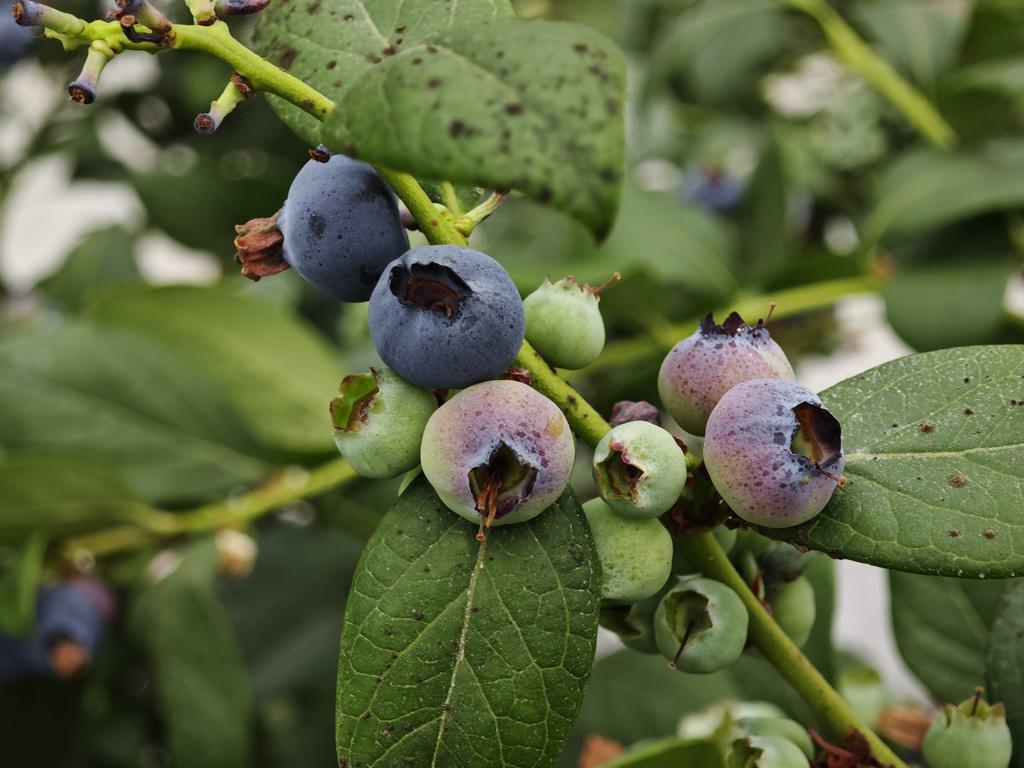RipeBlueBerry: (370, 241, 524, 389)
Semi-RipeBlueBerry: (422, 379, 576, 532), (711, 379, 844, 530)
